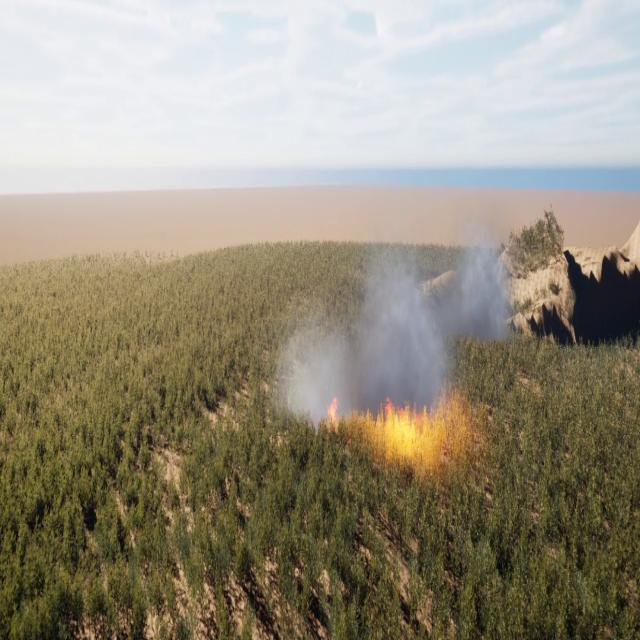fire: (326, 388, 468, 463)
smoke: (275, 228, 512, 424)
